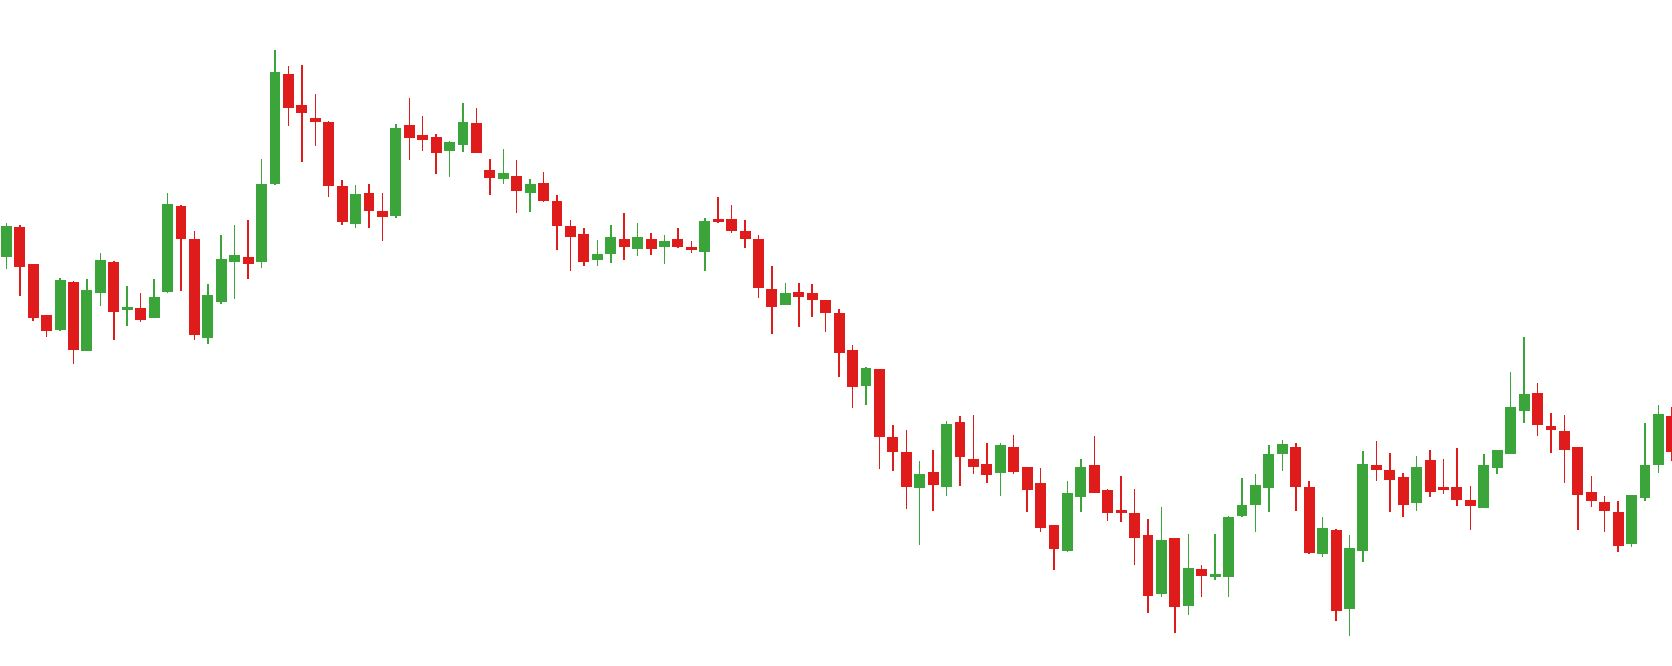buy: (1463, 462, 1637, 556), (1048, 517, 1170, 616), (104, 244, 216, 351)
